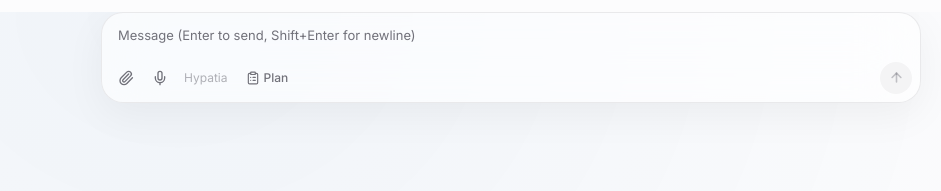
it: MessageInput file picker › shows file chip after selection
Click the button named "Attach files": click(126, 78) [110, 62, 142, 94]
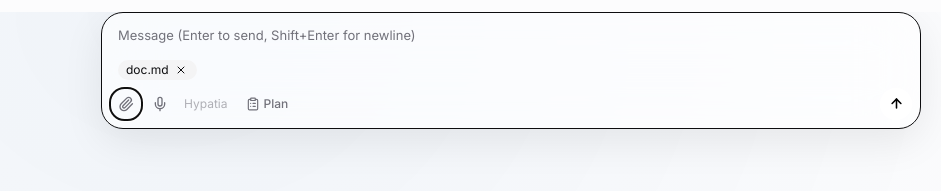
Expected: the text "doc.md" is shown, [126, 62, 169, 78]
